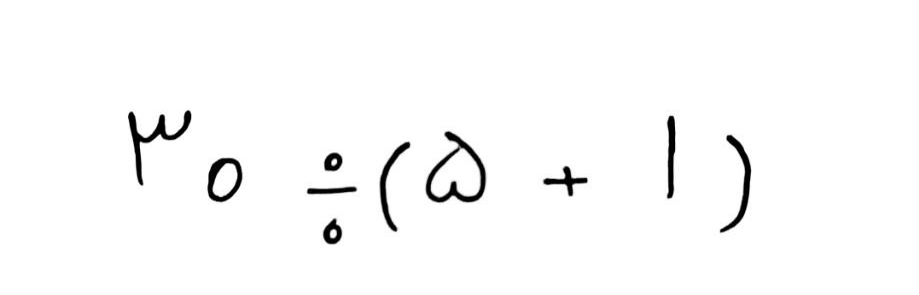character: (424, 129, 487, 205), (129, 110, 191, 187), (308, 151, 358, 245), (718, 132, 753, 233), (377, 139, 413, 233), (205, 157, 243, 203), (541, 165, 590, 197), (665, 113, 677, 198)
